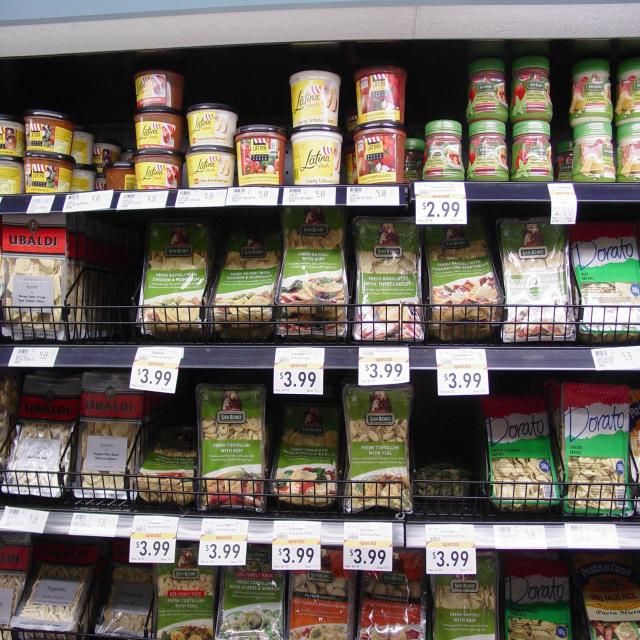empty_space: (419, 417, 481, 499), (87, 240, 137, 329)
